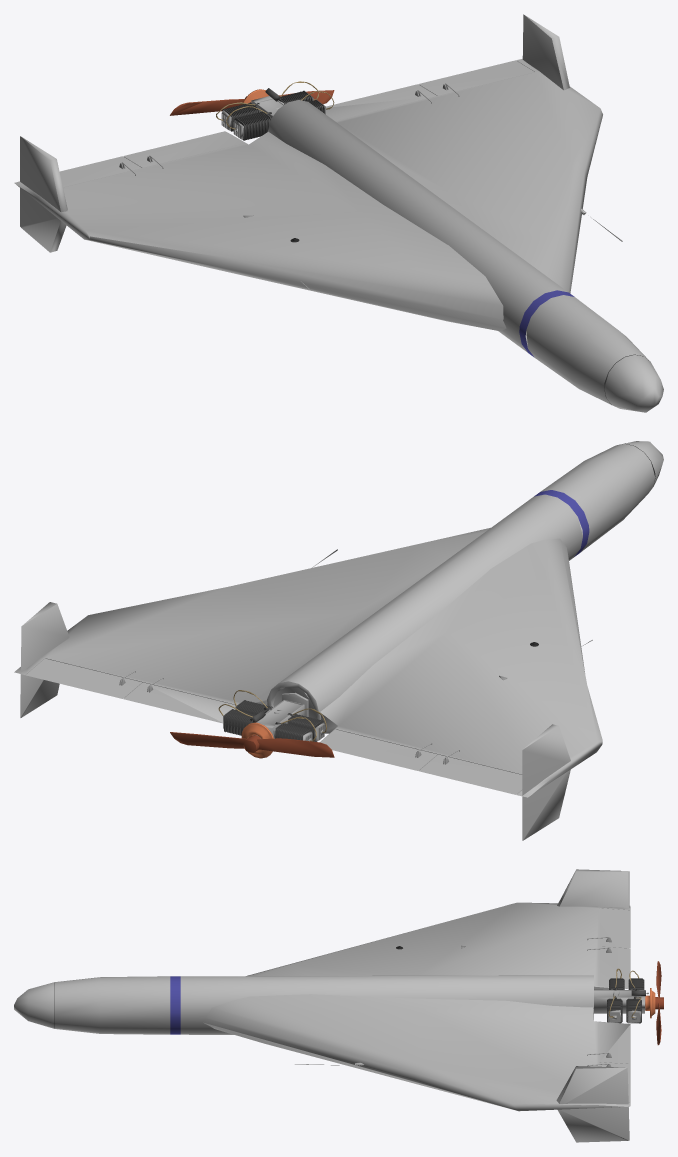
Rendered from shahed.glb.
3 views of the same model, one above another, from view 1: azimuth 30°, elevation 25°; view 2: azimuth 150°, elevation 25°; view 3: azimuth 270°, elevation 25° (orthographic). The views are drawn at different scales.
Visible parts, largest first — view 1: Utama_Main_0, Mesin_Dark Steel.001_0, Baling baling_Kayu_0, Mesin_Mesin Silver.002_0, Utama_Main.Biru_0; view 2: Utama_Main_0, Baling baling_Kayu_0, Mesin_Dark Steel.001_0, Mesin_Mesin Silver.002_0, Utama_Main.Biru_0; view 3: Utama_Main_0, Mesin_Mesin Silver.002_0, Mesin_Dark Steel.001_0, Utama_Main.Biru_0, Baling baling_Kayu_0.
Boxes of the visible parts, <box> form: Utama_Main_0: <box>14,14,663,412</box>; Mesin_Dark Steel.001_0: <box>222,88,324,140</box>; Baling baling_Kayu_0: <box>170,90,334,115</box>; Mesin_Mesin Silver.002_0: <box>121,83,622,289</box>; Utama_Main.Biru_0: <box>519,290,574,357</box>; Utama_Main_0: <box>14,441,663,840</box>; Baling baling_Kayu_0: <box>170,732,334,757</box>; Mesin_Dark Steel.001_0: <box>224,700,323,741</box>; Mesin_Mesin Silver.002_0: <box>122,549,592,759</box>; Utama_Main.Biru_0: <box>534,490,589,556</box>; Utama_Main_0: <box>14,869,630,1142</box>; Mesin_Mesin Silver.002_0: <box>295,937,648,1066</box>; Mesin_Dark Steel.001_0: <box>607,978,645,1023</box>; Utama_Main.Biru_0: <box>170,976,180,1034</box>; Baling baling_Kayu_0: <box>655,961,663,1045</box>.
Bounding box in the file's own units: 1.76 × 0.3014 × 2.4.
